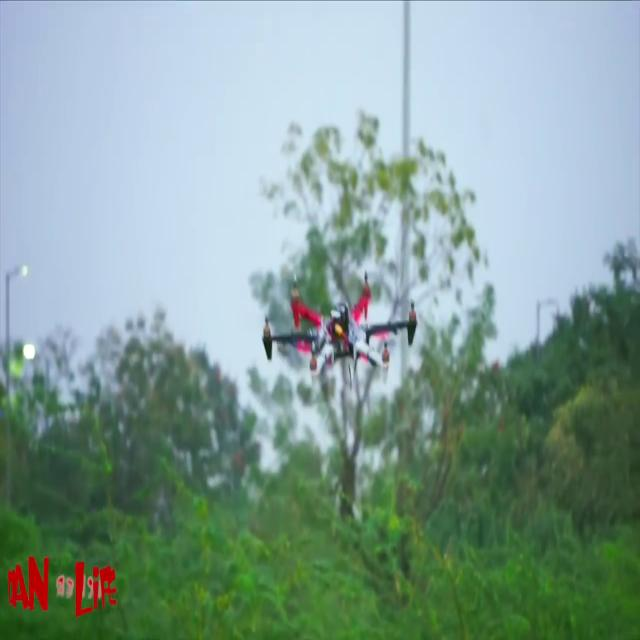drone: (232, 276, 430, 394)
